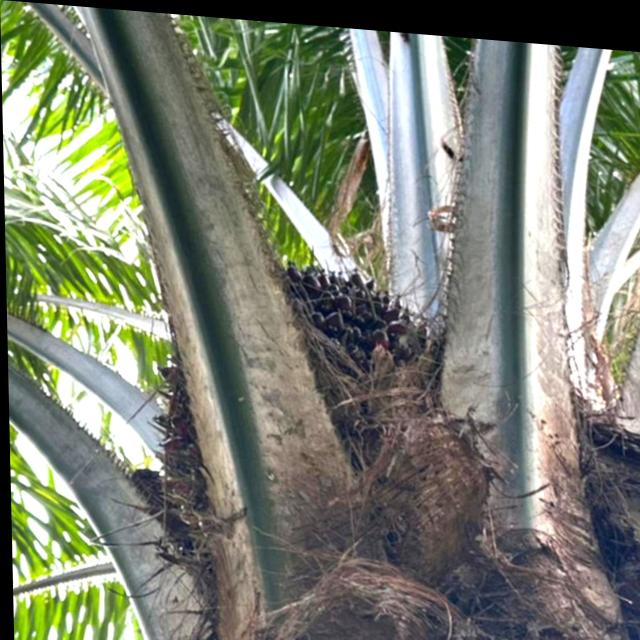ripe: (271, 236, 443, 387)
